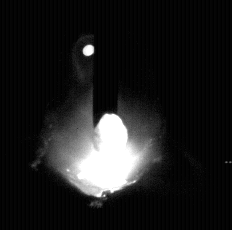arame: (93, 0, 120, 130)
poca: (43, 0, 163, 230)
